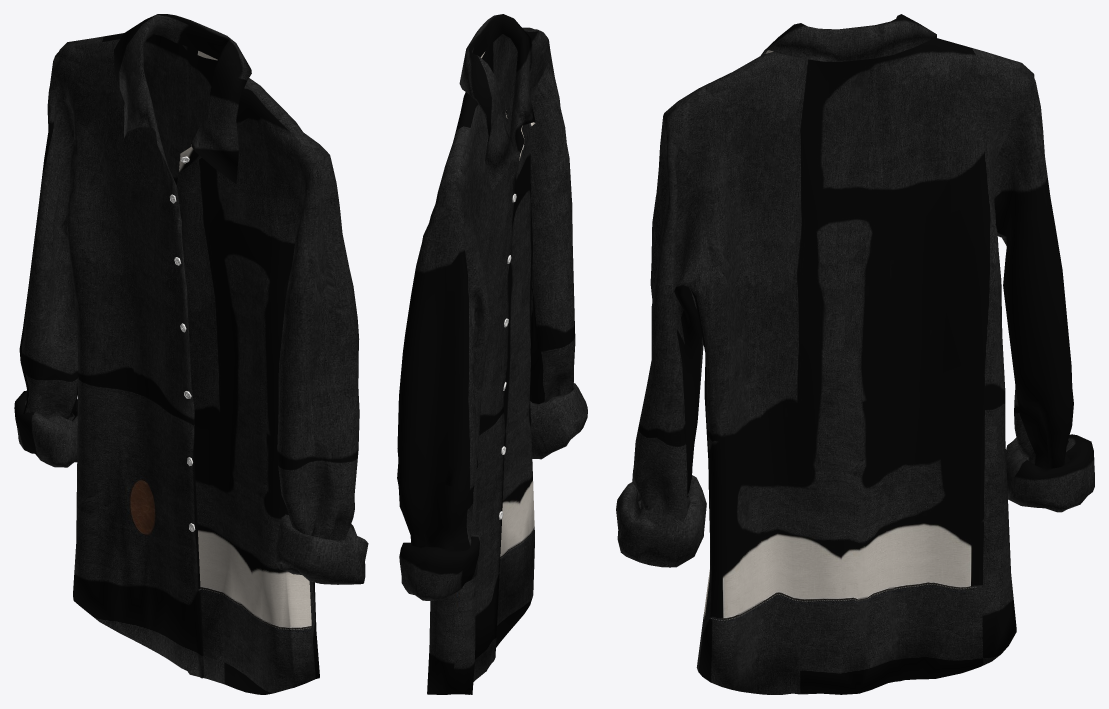
The model's file is rod-shirt05.glb.
The picture shows the model from 3 angles, left to right: view 1: azimuth 30°, elevation 25°; view 2: azimuth 150°, elevation 25°; view 3: azimuth 270°, elevation 25°; orthographic projection. The views are drawn at different scales.
Parts seen in each view (by area): view 1: shirt05.001; view 2: shirt05.001; view 3: shirt05.001.
Boxes of the visible parts, x1,y1,x2,y2 form: shirt05.001: [14, 14, 368, 694]; shirt05.001: [397, 14, 587, 694]; shirt05.001: [616, 14, 1094, 694].
Bounding box in the file's own units: 0.2169 × 0.8721 × 0.5638.
2 materials, 1 textured.
